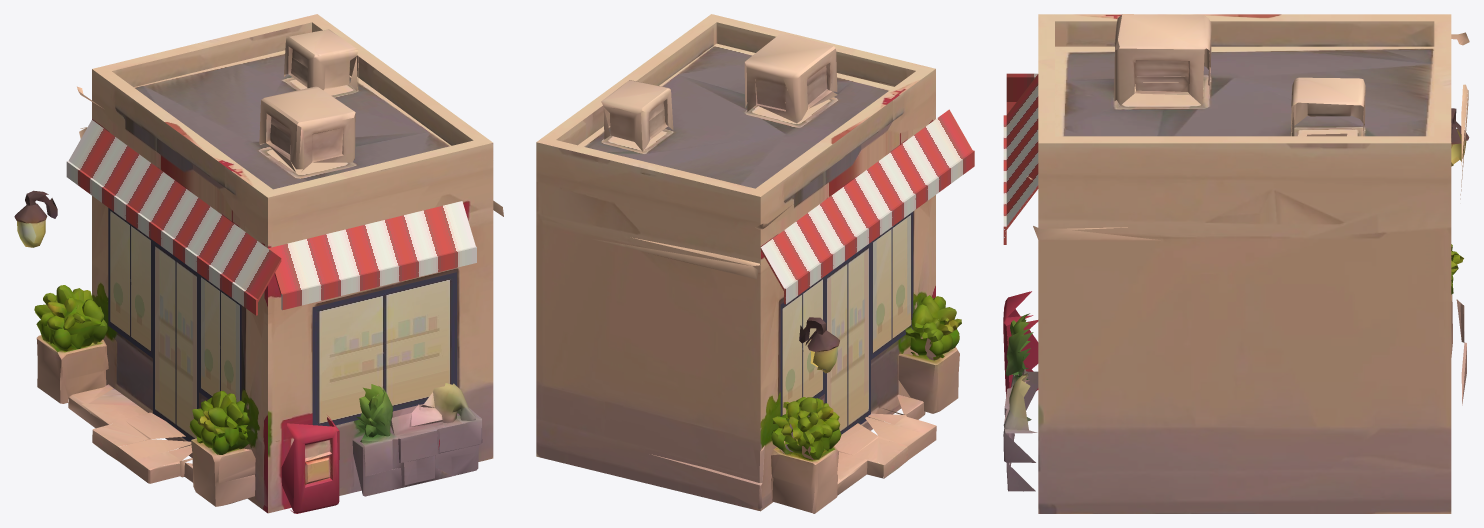
The model's file is m11_03_convenience_r90.glb.
The picture shows the model from 3 angles, left to right: view 1: azimuth 30°, elevation 25°; view 2: azimuth 150°, elevation 25°; view 3: azimuth 270°, elevation 25°; orthographic projection. The views are drawn at different scales.
Parts seen in each view (by area): view 1: shell, convenience_detail; view 2: shell, convenience_detail; view 3: shell, convenience_detail.
Part boxes in pixels (box(x1,y1,x2,y2)): shell: box(66, 14, 493, 513); convenience_detail: box(14, 29, 503, 513); shell: box(536, 14, 974, 511); convenience_detail: box(587, 33, 961, 513); shell: box(1003, 14, 1451, 513); convenience_detail: box(1003, 14, 1469, 491).
Bounding box in the file's own units: 6.28 × 6.68 × 6.9.
Materials: 6 (6 with a texture image).
